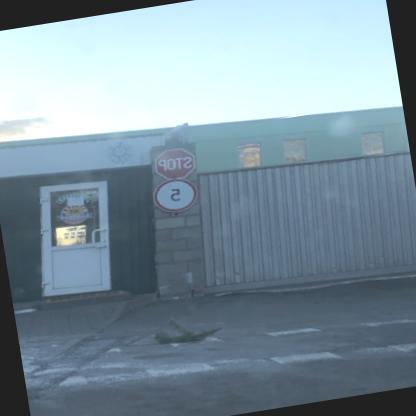speedlimit: (153, 175, 198, 213)
stop: (154, 143, 198, 180)
